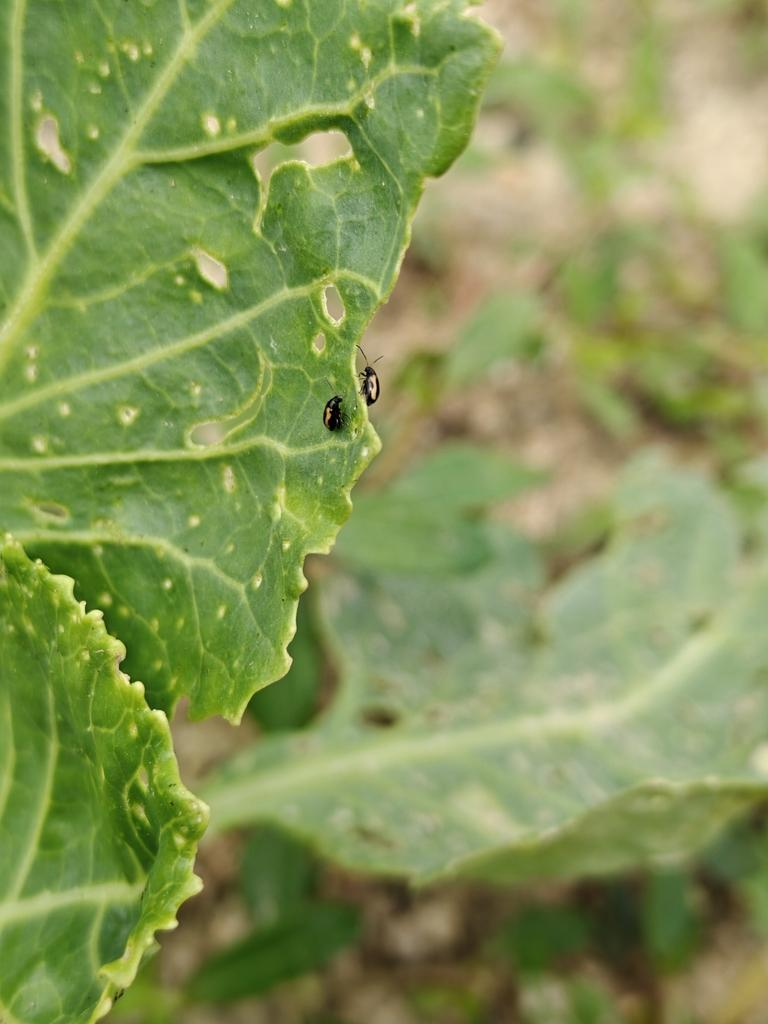flea_beetle: (342, 332, 400, 416), (314, 381, 352, 439)
